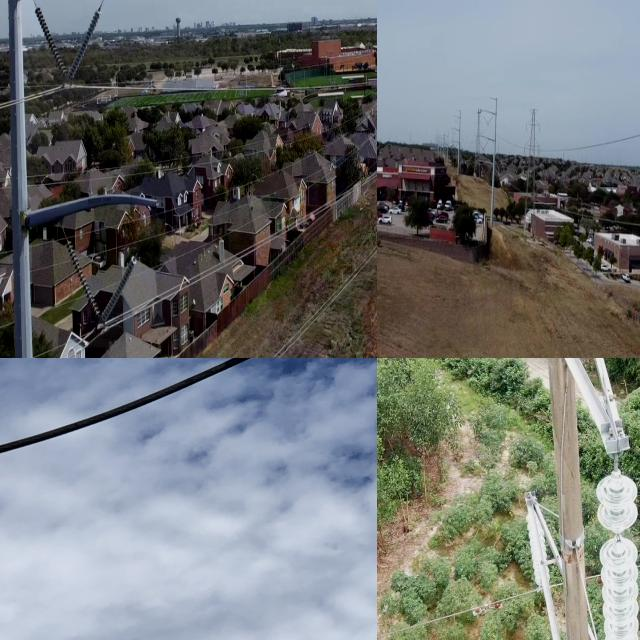杆塔: (516, 358, 640, 640), (520, 102, 545, 220), (472, 102, 486, 177)
正常电缆: (0, 358, 264, 468)
正常绝缘子: (593, 468, 640, 640), (60, 226, 105, 327), (95, 245, 144, 334), (63, 0, 107, 91), (29, 0, 72, 87), (522, 488, 555, 593)
绝缘子破损: (614, 532, 622, 542)
